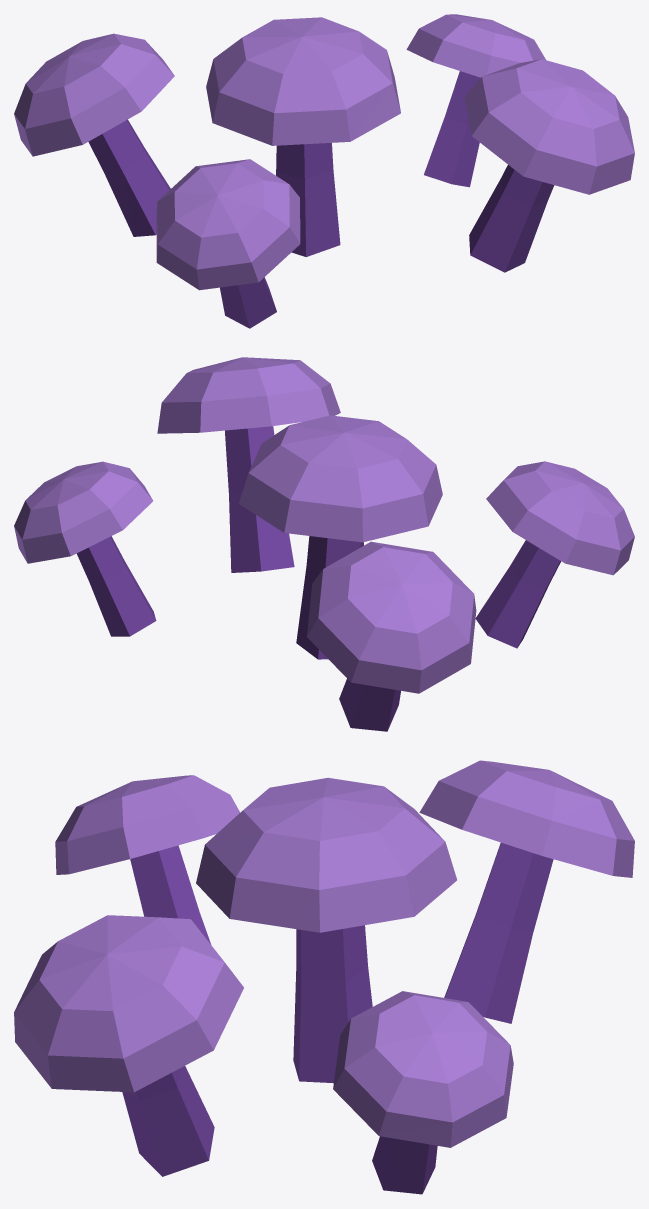
The model's file is plant_psilocap_c.obj.
The picture shows the model from 3 angles, top to bottom: view 1: azimuth 30°, elevation 25°; view 2: azimuth 150°, elevation 25°; view 3: azimuth 270°, elevation 25°; orthographic projection. The views are drawn at different scales.
Parts seen in each view (by area): view 1: plant_psilocap_c_1, plant_psilocap_c_5, plant_psilocap_c_3, plant_psilocap_c_9, plant_psilocap_c_7, plant_psilocap_c_4, plant_psilocap_c_8, plant_psilocap_c_0, plant_psilocap_c_6, plant_psilocap_c_2; view 2: plant_psilocap_c_9, plant_psilocap_c_1, plant_psilocap_c_3, plant_psilocap_c_5, plant_psilocap_c_7, plant_psilocap_c_4, plant_psilocap_c_2, plant_psilocap_c_6, plant_psilocap_c_8, plant_psilocap_c_0; view 3: plant_psilocap_c_5, plant_psilocap_c_1, plant_psilocap_c_7, plant_psilocap_c_9, plant_psilocap_c_3, plant_psilocap_c_8, plant_psilocap_c_0, plant_psilocap_c_4, plant_psilocap_c_2, plant_psilocap_c_6.
Boxes of the visible parts, x1=… form: plant_psilocap_c_1: x1=206, y1=17, x2=400, y2=145; plant_psilocap_c_5: x1=464, y1=59, x2=634, y2=194; plant_psilocap_c_3: x1=156, y1=159, x2=300, y2=290; plant_psilocap_c_9: x1=14, y1=33, x2=174, y2=156; plant_psilocap_c_7: x1=406, y1=14, x2=545, y2=77; plant_psilocap_c_4: x1=469, y1=165, x2=554, y2=272; plant_psilocap_c_8: x1=88, y1=119, x2=170, y2=236; plant_psilocap_c_0: x1=276, y1=143, x2=340, y2=256; plant_psilocap_c_6: x1=424, y1=71, x2=480, y2=187; plant_psilocap_c_2: x1=220, y1=277, x2=276, y2=328; plant_psilocap_c_9: x1=307, y1=541, x2=476, y2=693; plant_psilocap_c_1: x1=238, y1=415, x2=442, y2=542; plant_psilocap_c_3: x1=486, y1=461, x2=634, y2=575; plant_psilocap_c_5: x1=157, y1=357, x2=340, y2=433; plant_psilocap_c_7: x1=14, y1=461, x2=152, y2=563; plant_psilocap_c_4: x1=225, y1=426, x2=294, y2=572; plant_psilocap_c_2: x1=475, y1=540, x2=560, y2=648; plant_psilocap_c_6: x1=76, y1=536, x2=156, y2=636; plant_psilocap_c_8: x1=339, y1=679, x2=400, y2=731; plant_psilocap_c_0: x1=296, y1=536, x2=363, y2=659; plant_psilocap_c_5: x1=14, y1=915, x2=243, y2=1092; plant_psilocap_c_1: x1=196, y1=777, x2=456, y2=932; plant_psilocap_c_7: x1=333, y1=991, x2=513, y2=1147; plant_psilocap_c_9: x1=419, y1=760, x2=634, y2=877; plant_psilocap_c_3: x1=55, y1=775, x2=240, y2=874; plant_psilocap_c_8: x1=444, y1=842, x2=553, y2=1023; plant_psilocap_c_0: x1=293, y1=925, x2=372, y2=1083; plant_psilocap_c_4: x1=122, y1=1066, x2=214, y2=1176; plant_psilocap_c_2: x1=130, y1=845, x2=211, y2=944; plant_psilocap_c_6: x1=372, y1=1136, x2=437, y2=1194.
Size of the model in its own units: 1.45 by 0.6358 by 1.27.
